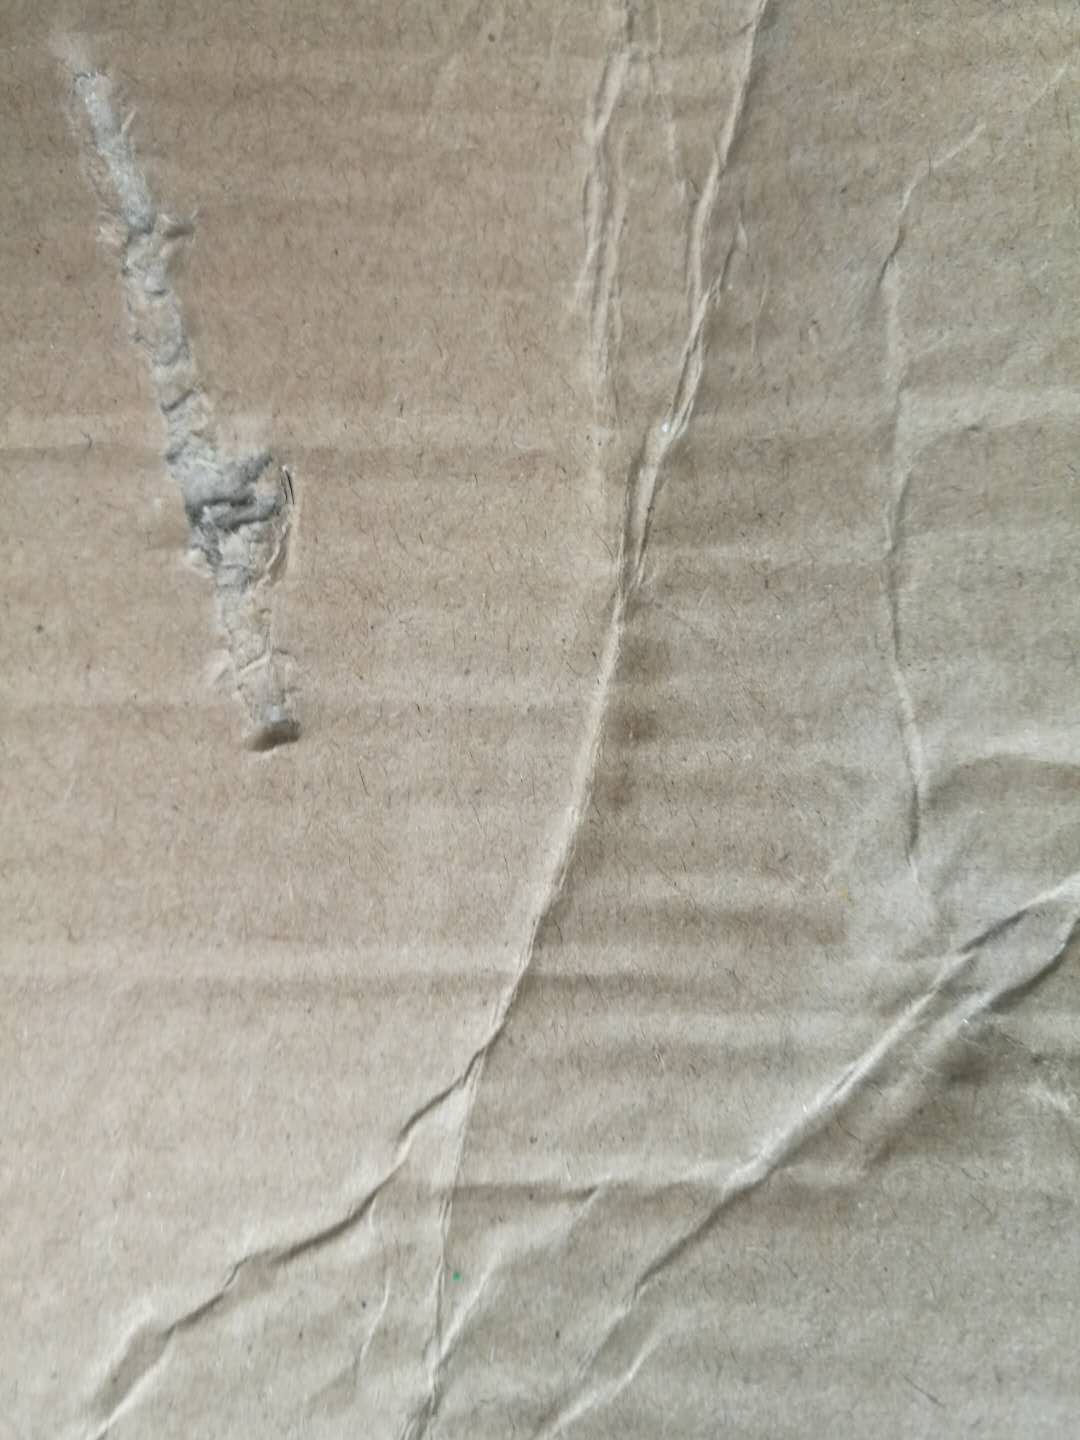defect: (20, 7, 1079, 1440), (28, 22, 354, 785), (2, 378, 1077, 537)
